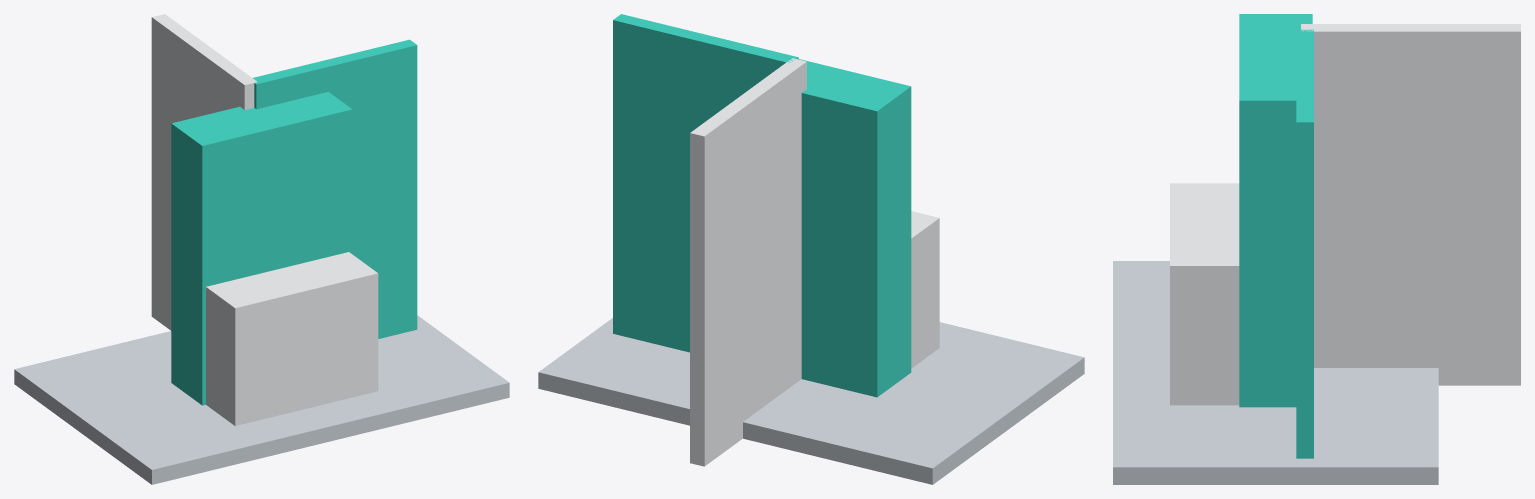
3 renders of one model, left to right at view 1: azimuth 30°, elevation 25°; view 2: azimuth 150°, elevation 25°; view 3: azimuth 270°, elevation 25°, orthographic. The views are drawn at different scales.
Parts seen in each view (by area): view 1: Exhibition Booth Concept; view 2: Exhibition Booth Concept; view 3: Exhibition Booth Concept.
Boxes of the visible parts, <box> form: Exhibition Booth Concept: <box>14,14,509,484</box>; Exhibition Booth Concept: <box>538,14,1084,484</box>; Exhibition Booth Concept: <box>1113,14,1520,484</box>.
Size of the model in its own units: 3 by 2.4 by 2.5.
